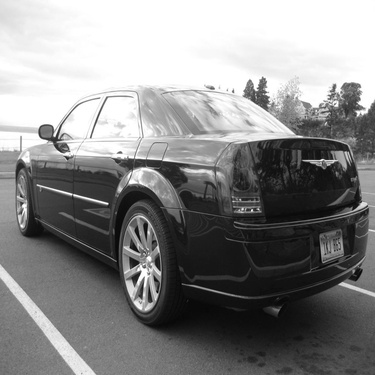car: (8, 81, 371, 334)
